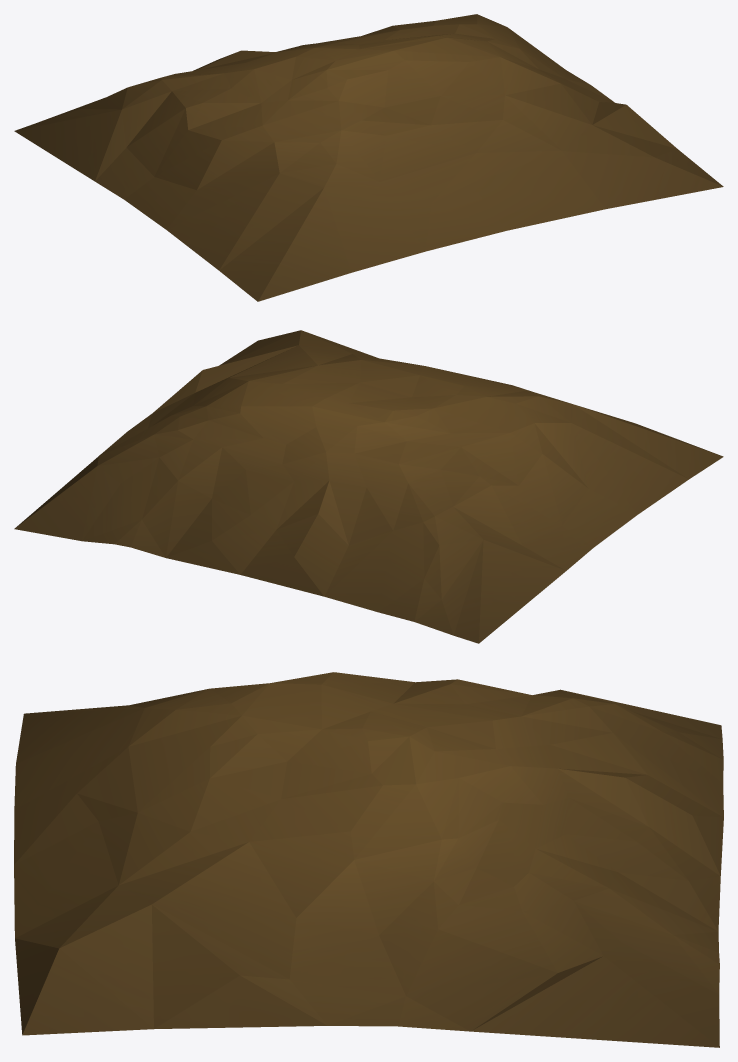
The model's file is dirt_chest.glb.
The picture shows the model from 3 angles, top to bottom: view 1: azimuth 30°, elevation 25°; view 2: azimuth 150°, elevation 25°; view 3: azimuth 270°, elevation 25°; orthographic projection. The views are drawn at different scales.
Parts seen in each view (by area): view 1: dirt.002; view 2: dirt.002; view 3: dirt.002.
Boxes of the visible parts, x1,y1,x2,y2 form: dirt.002: (14,14,723,301); dirt.002: (14,330,723,643); dirt.002: (14,672,723,1047).
Size of the model in its own units: 4.87 by 0.9125 by 4.47.
1 material, 1 textured.
